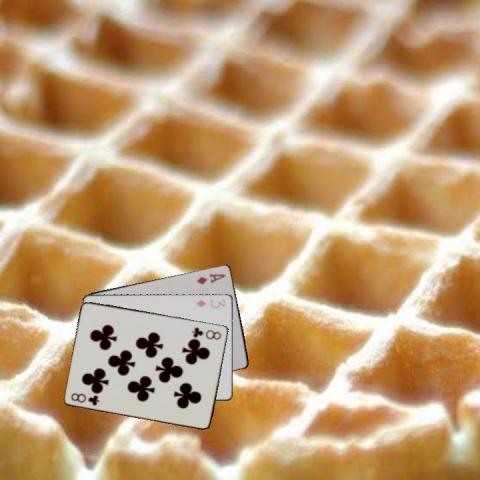3d: (194, 296, 227, 309)
8c: (68, 389, 101, 407), (188, 324, 222, 341)
Ad: (193, 270, 227, 285)
